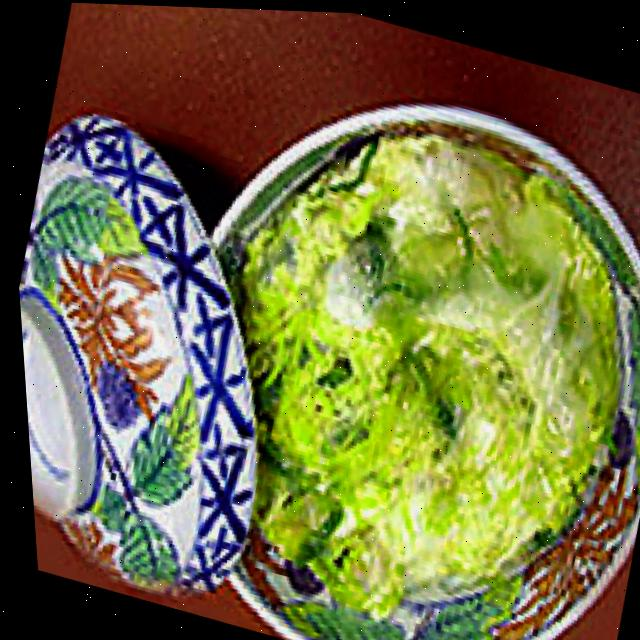米饭主食: (93, 27, 640, 640)
